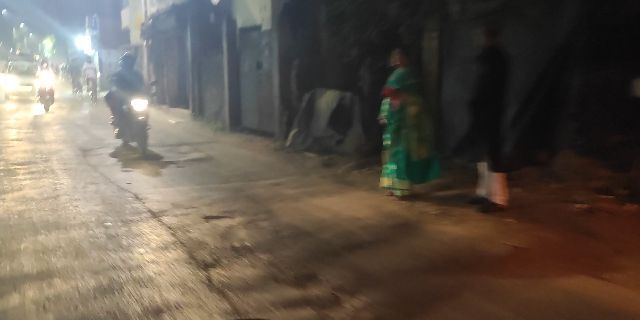Motorbike: (104, 44, 166, 160)
